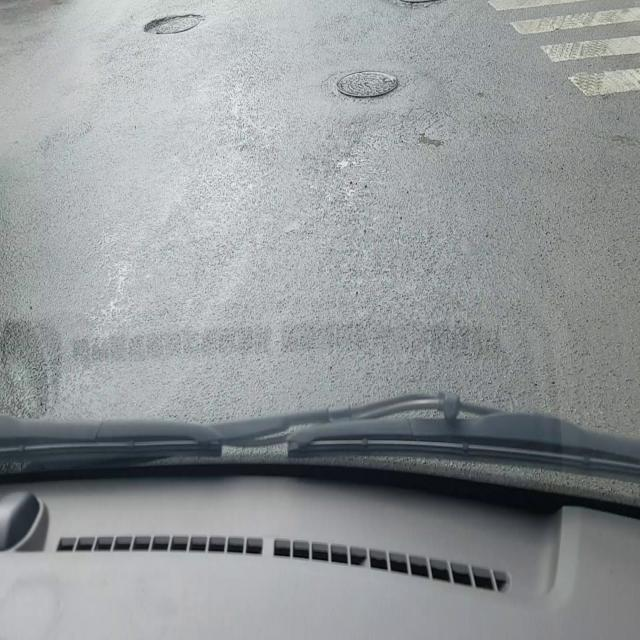Pothole: (140, 10, 208, 37)
